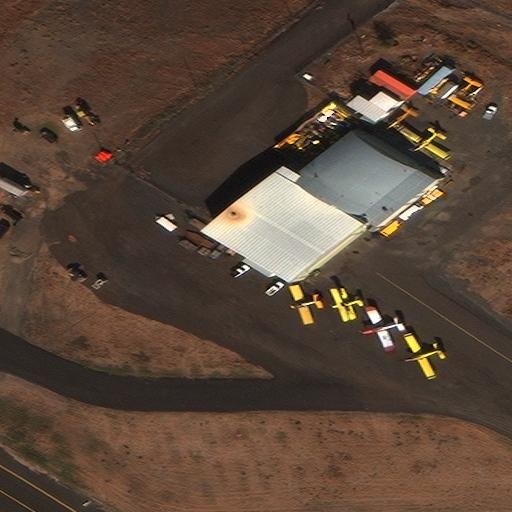Medium Civil Transport: (361, 308, 402, 351), (403, 335, 442, 380), (395, 130, 446, 160), (288, 287, 321, 325)
Small Civil Transport: (328, 289, 362, 322)
